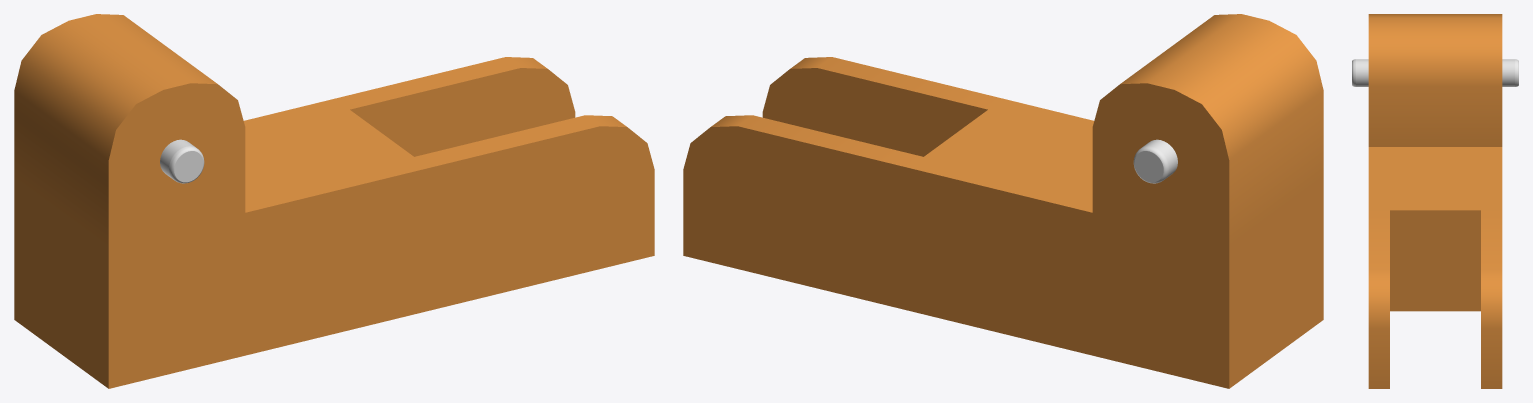
The picture shows the model from 3 angles, left to right: view 1: azimuth 30°, elevation 25°; view 2: azimuth 150°, elevation 25°; view 3: azimuth 270°, elevation 25°; orthographic projection. The views are drawn at different scales.
Parts seen in each view (by area): view 1: base, axle; view 2: base, axle; view 3: base, axle.
Boxes of the visible parts, left/top/right/bottom form: base: left=14, top=14, right=654, bottom=388; axle: left=160, top=139, right=204, bottom=183; base: left=683, top=14, right=1323, bottom=388; axle: left=1133, top=139, right=1177, bottom=183; base: left=1368, top=14, right=1502, bottom=388; axle: left=1352, top=59, right=1518, bottom=86.
Size of the model in its own units: 79.99 by 40 by 30.
